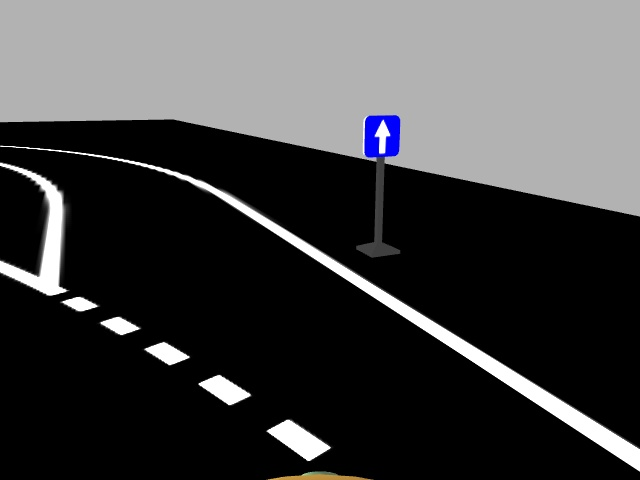OneWay: (362, 113, 400, 156)
